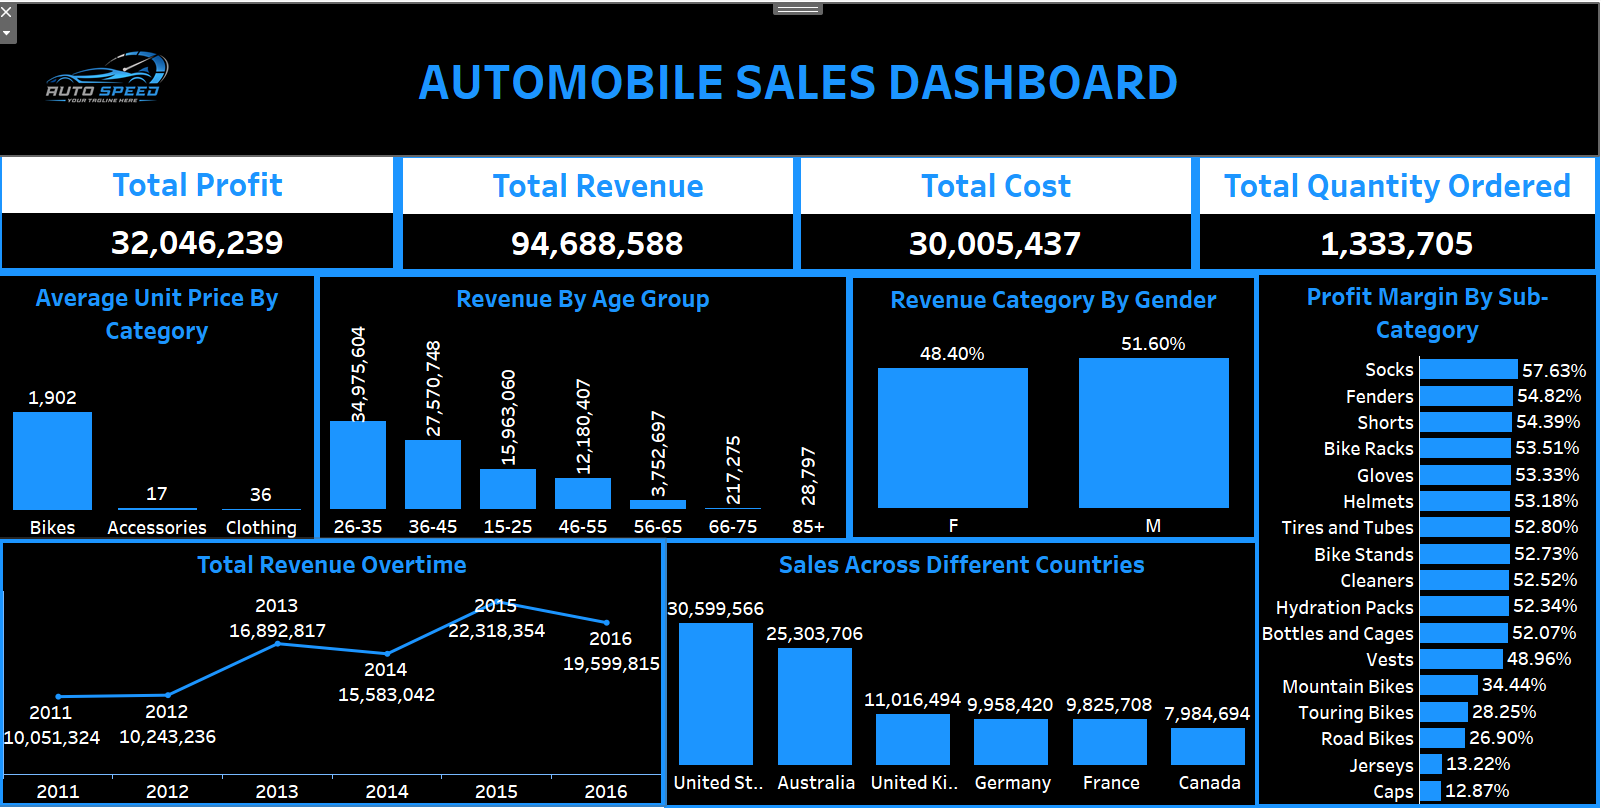

The dashboard page shown, as its layout file describes it:
{"tool":"tableau","page":{"name":"Dashboard 1","canvas":[1000,1000],"units":"permille","ordinal":0},"visuals":[{"type":"text","box":[0,3.7,999.4,187.3]},{"type":"image","param":"C:/Users/User/Pictures/file_00000000697071f4a697035b0e5f4af9.png","box":[3.1,8.7,132.2,178.7]},{"type":"worksheet","title":"Total Profit","mark":"Automatic","box":[0,187.3,250,150.1]},{"type":"worksheet","title":"Total Revenue","mark":"Automatic","box":[250,188.6,249.4,150.1]},{"type":"worksheet","title":"Total Cost","mark":"Automatic","box":[498.1,188.6,249.4,150.1]},{"type":"worksheet","title":"Total Quantity Ordered","mark":"Automatic","box":[746.9,188.6,252.5,150.1]},{"type":"worksheet","title":"Profit Margin By Sub Category","mark":"Automatic","rows":["Sub_Category"],"cols":["Calculation_718887124432125953"],"box":[784.3,335,215.1,666.2]},{"type":"worksheet","title":"Revenue By Group","mark":"Automatic","rows":["Calculation_718887124430139392"],"cols":["Calculation_548313288121610245"],"box":[198.9,337.5,332.9,333.8]},{"type":"worksheet","title":"Revenue Category By Gender","mark":"Automatic","rows":["Calculation_111745600242741248"],"cols":["Calculation_365917504047833089","Customer_Gender"],"box":[531.2,338.7,255,331.3]},{"type":"worksheet","title":"Total Revenue Overtime","mark":"Line","rows":["Calculation_718887124430139392"],"cols":["Date"],"box":[1.2,667.5,415.2,332.5]},{"type":"worksheet","title":"Sales Across Different Countries","mark":"Automatic","rows":["Calculation_718887124430139392"],"cols":["State"],"box":[415.8,668.7,371.6,332.5]}]}

Visuals, with their boxes on the dashboard's canvas, which has no fixed pixel size, in thousandths of its width and height (x1, y1, x2, y2). These are canvas units, not pixel positions in the 1601x808 screenshot, which may show the page scaled, cropped or inside an application window:
text: box(0, 4, 999, 191)
image: box(3, 9, 135, 187)
"Total Profit" worksheet: box(0, 187, 250, 337)
"Total Revenue" worksheet: box(250, 189, 499, 339)
"Total Cost" worksheet: box(498, 189, 748, 339)
"Total Quantity Ordered" worksheet: box(747, 189, 999, 339)
"Profit Margin By Sub Category" worksheet: box(784, 335, 999, 1001)
"Revenue By Group" worksheet: box(199, 338, 532, 671)
"Revenue Category By Gender" worksheet: box(531, 339, 786, 670)
"Total Revenue Overtime" worksheet (Line marks): box(1, 668, 416, 1000)
"Sales Across Different Countries" worksheet: box(416, 669, 787, 1001)
